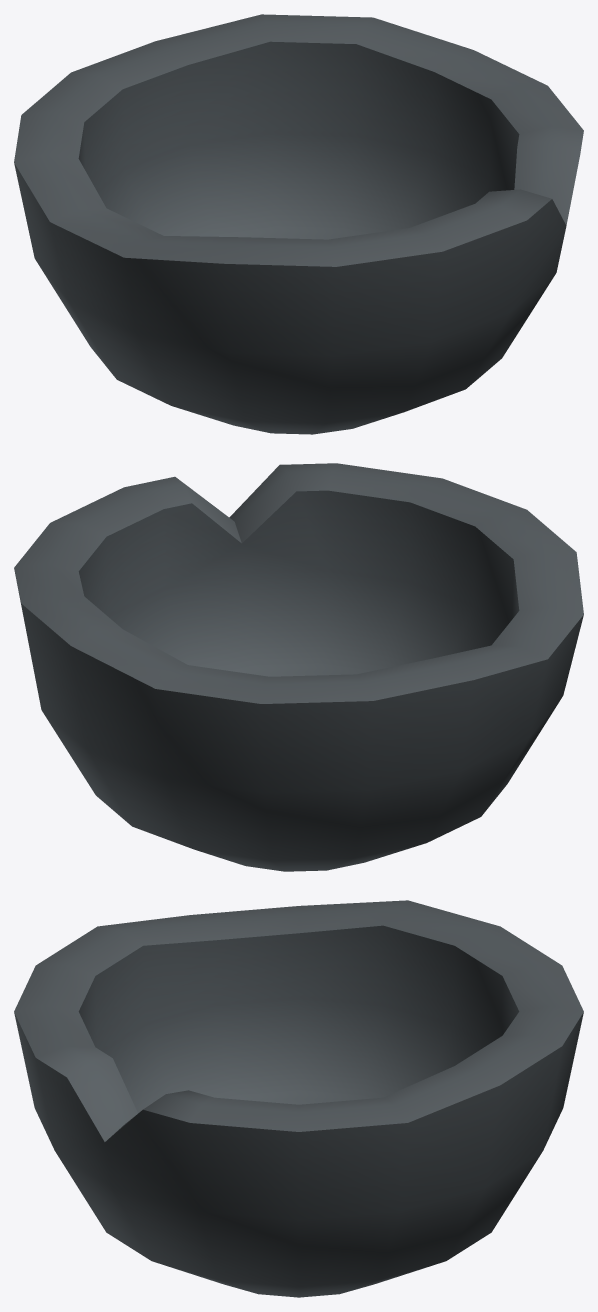
The model's file is Mortar.obj.
3 renders of one model, top to bottom at view 1: azimuth 30°, elevation 25°; view 2: azimuth 150°, elevation 25°; view 3: azimuth 270°, elevation 25°, orthographic.
Visible parts, largest first — view 1: Mortar; view 2: Mortar; view 3: Mortar.
Boxes of the visible parts, box(x1,y1,x2,y2) form: Mortar: box(14, 14, 583, 434); Mortar: box(14, 463, 583, 871); Mortar: box(14, 900, 583, 1297).
Bounding box in the file's own units: 0.6 × 0.3 × 0.6.
1 material, 1 textured.
